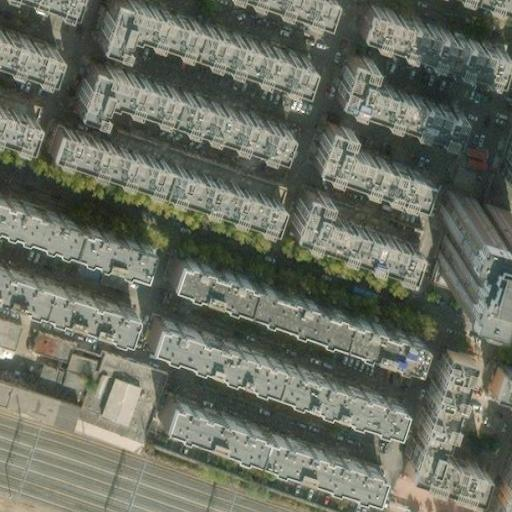building: (144, 314, 399, 429), (165, 252, 419, 366), (38, 129, 272, 237), (158, 393, 377, 493), (61, 65, 277, 164), (395, 338, 478, 481), (354, 0, 505, 78), (282, 181, 413, 269), (304, 115, 435, 202), (323, 49, 453, 136), (427, 188, 505, 285), (64, 411, 128, 445), (91, 367, 133, 418), (244, 0, 322, 27), (52, 337, 92, 385), (25, 318, 68, 356), (492, 111, 512, 175), (0, 95, 30, 137), (481, 354, 512, 393), (494, 456, 512, 511), (43, 395, 71, 424), (0, 314, 11, 339)
